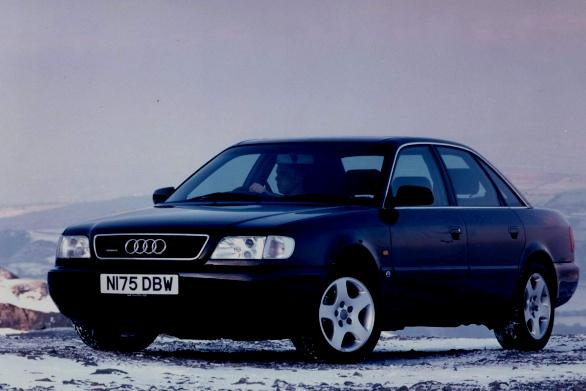Audi: (120, 233, 174, 258)
